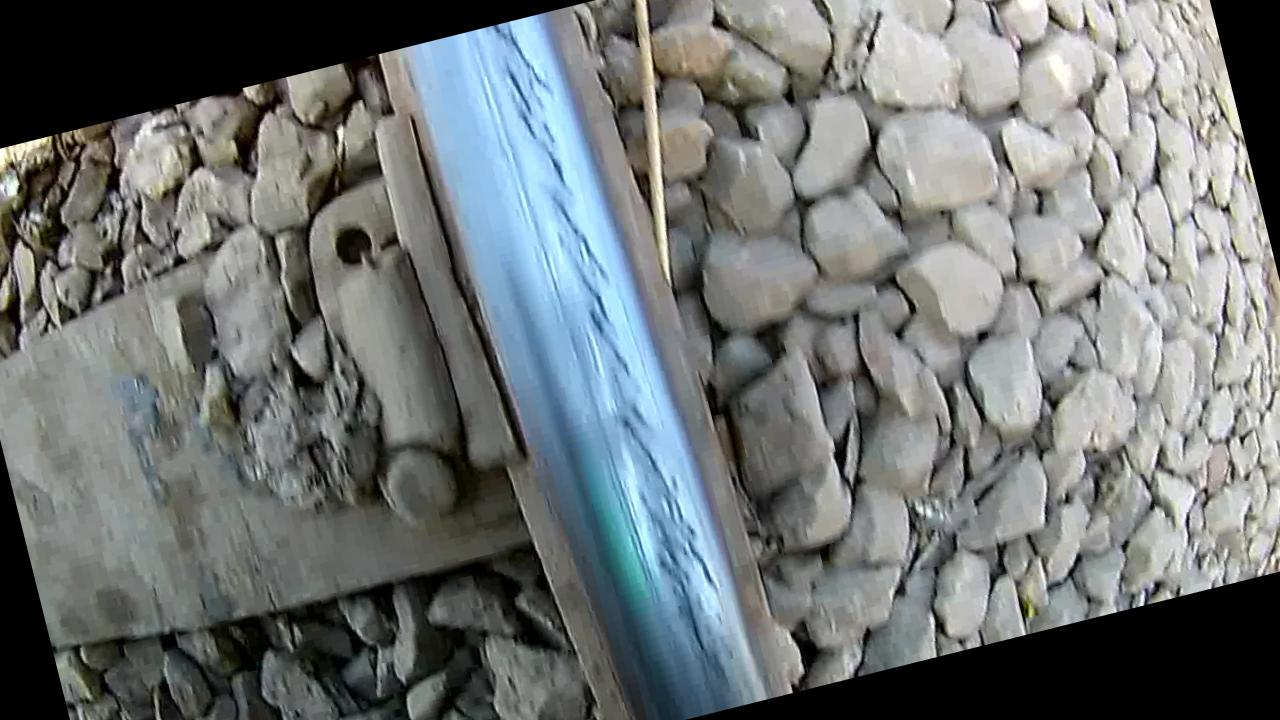normal_track: (467, 4, 746, 703)
